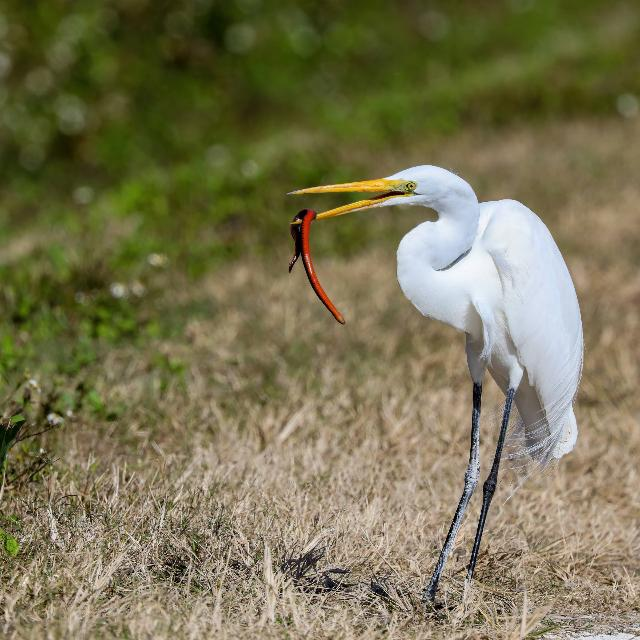egret: (286, 165, 584, 581)
